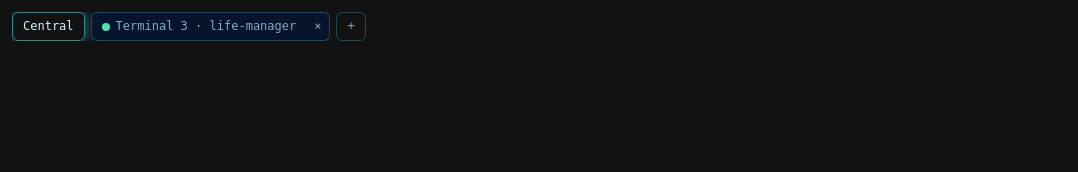
abas de terminal › pasta ambígua mostra as opções; erro aparece
Click the button named "Abrir um terminal".
click(351, 27)  # box left=336, top=12, right=366, bottom=41
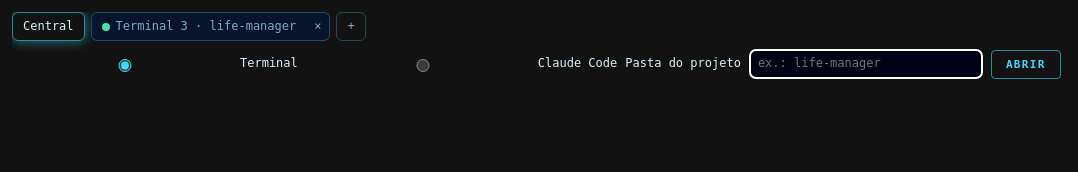
Type "sisdec" into the field labelled "Pasta do projeto".
click(866, 64); type("sisdec")  # box left=749, top=49, right=983, bottom=79
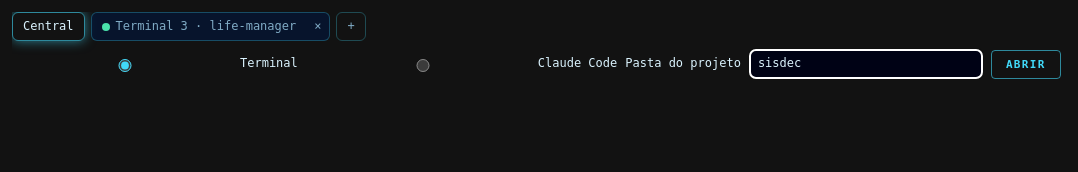
Click the button "Abrir".
click(1026, 64)  # box left=991, top=50, right=1061, bottom=79
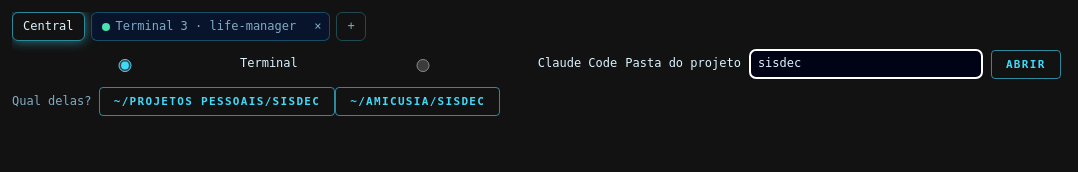
Click the button "~/AmicusIA/sisdec".
click(418, 101)  # box left=335, top=87, right=500, bottom=116
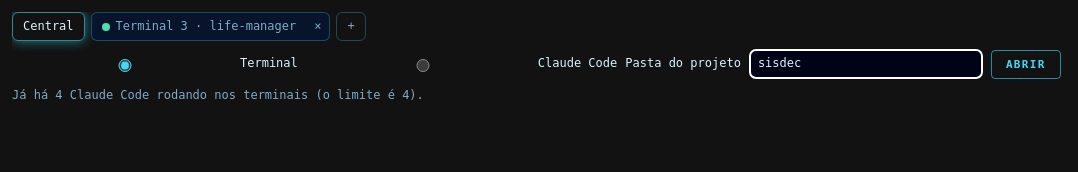
Expected: the message shows "limite é 4", left=12, top=88, right=424, bottom=102
